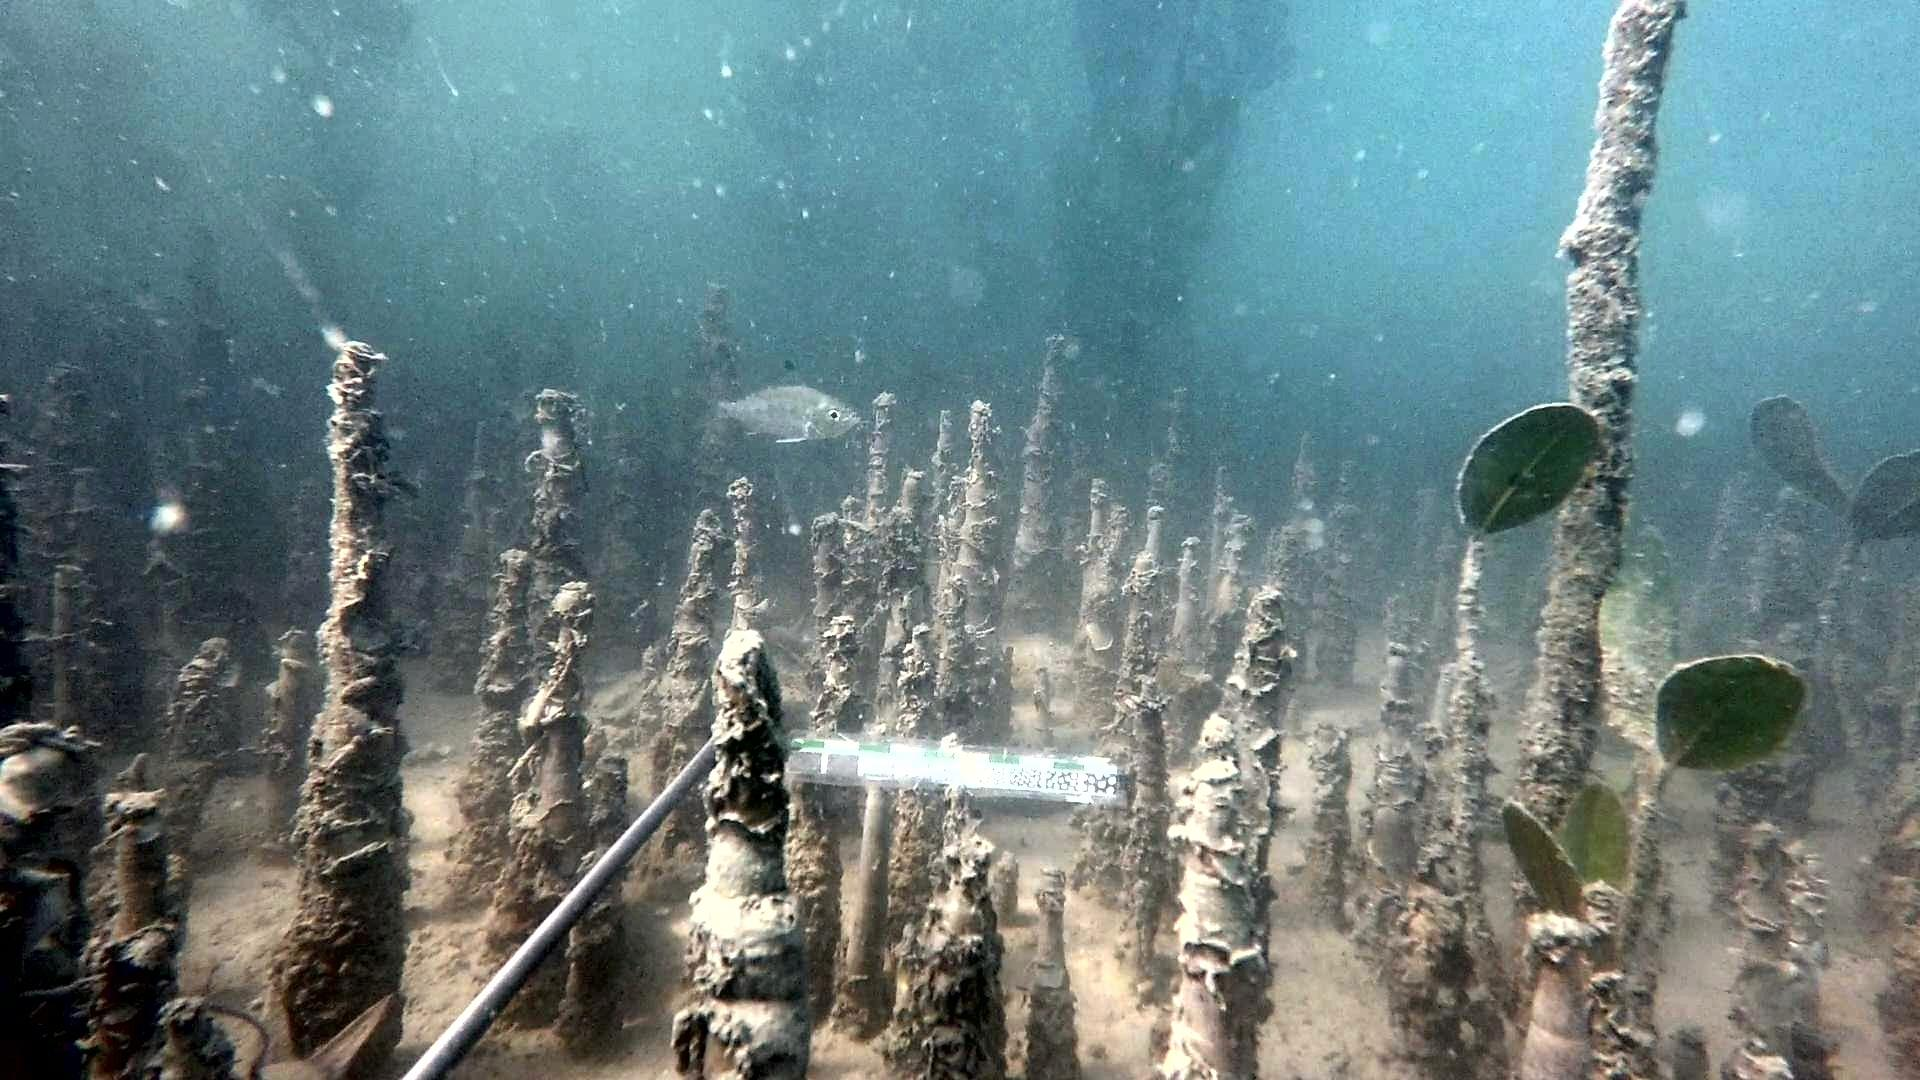gerres: (692, 359, 861, 444)
